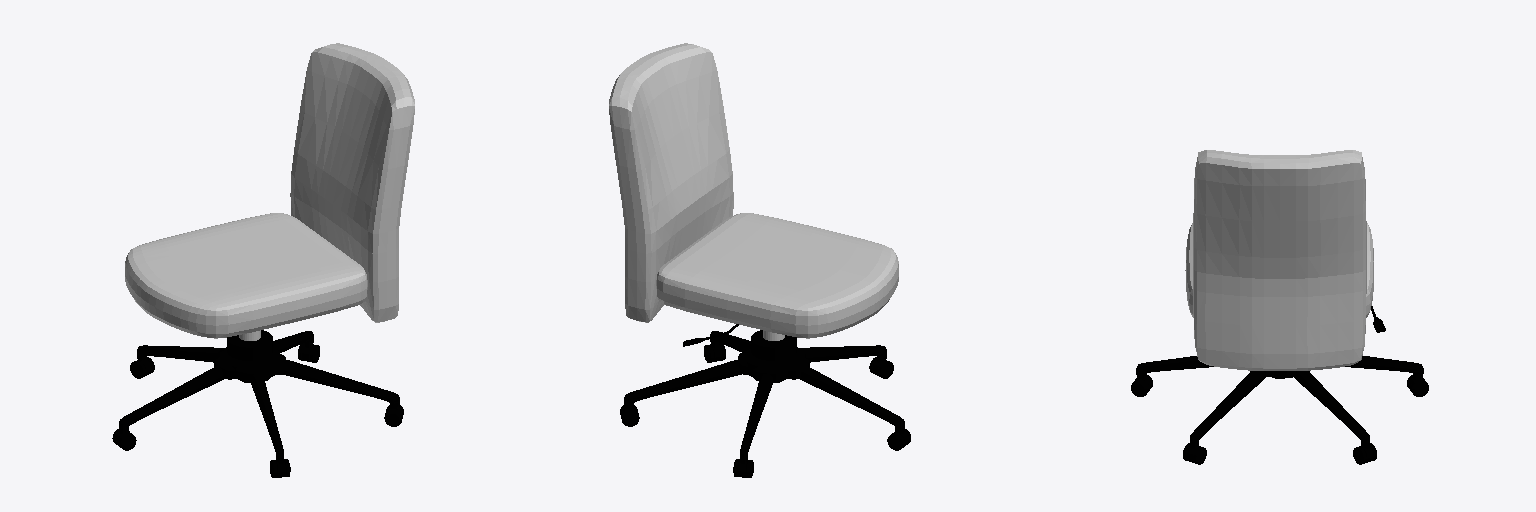
The model's file is office_chair.obj.
3 renders of one model, left to right at view 1: azimuth 30°, elevation 25°; view 2: azimuth 150°, elevation 25°; view 3: azimuth 270°, elevation 25°, orthographic.
Parts seen in each view (by area): view 1: Cube.069_Cube.093, Chair_Cube.094, Cylinder.002_Cylinder.003; view 2: Cube.069_Cube.093, Chair_Cube.094, Cylinder.002_Cylinder.003; view 3: Cube.069_Cube.093, Cylinder.002_Cylinder.003, Chair_Cube.094.
Boxes of the visible parts, x1,y1,x2,y2 form: Cube.069_Cube.093: [290, 43, 414, 322]; Chair_Cube.094: [125, 213, 367, 338]; Cylinder.002_Cylinder.003: [112, 330, 403, 477]; Cube.069_Cube.093: [609, 43, 733, 322]; Chair_Cube.094: [656, 213, 898, 338]; Cylinder.002_Cylinder.003: [620, 330, 910, 477]; Cube.069_Cube.093: [1193, 150, 1366, 370]; Cylinder.002_Cylinder.003: [1131, 356, 1428, 464]; Chair_Cube.094: [1185, 223, 1373, 317].
Bounding box in the file's own units: 2.54 × 2.78 × 2.35.